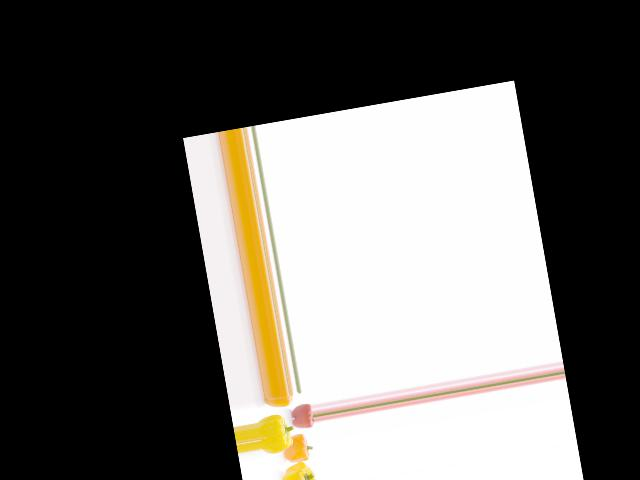bell_pepper: (263, 391, 296, 411)
